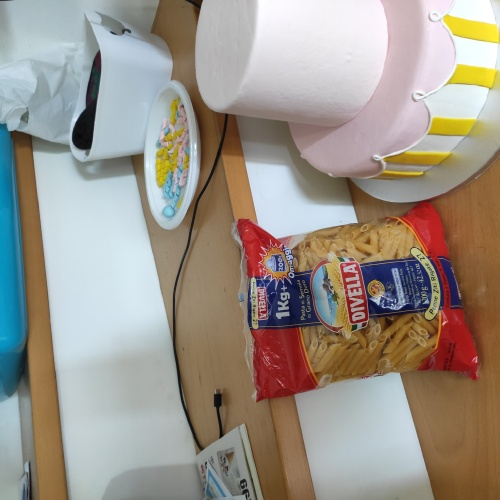pasta: (249, 226, 468, 375)
